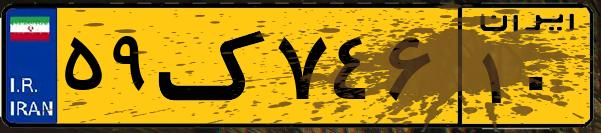0: (525, 38, 570, 115)
1: (475, 38, 525, 113)
4: (330, 28, 385, 110)
5: (57, 26, 110, 100)
6: (385, 28, 445, 110)
7: (270, 28, 330, 110)
9: (110, 28, 158, 98)
ک: (158, 12, 270, 120)
